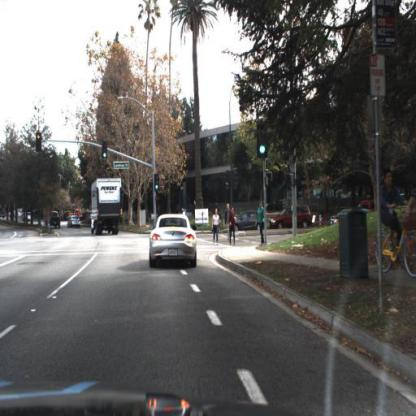biker: (373, 161, 416, 281)
car: (150, 212, 199, 267), (270, 205, 311, 229), (233, 211, 266, 230), (67, 213, 82, 231), (70, 214, 84, 230)
pedestrian: (212, 208, 221, 250), (258, 200, 266, 247), (229, 209, 237, 246), (225, 203, 233, 239)
trafficLight-Green: (258, 120, 268, 161), (153, 172, 162, 194), (102, 141, 109, 162)
trafficLight-RedLeft: (36, 133, 44, 153)
truck: (91, 175, 125, 239)
